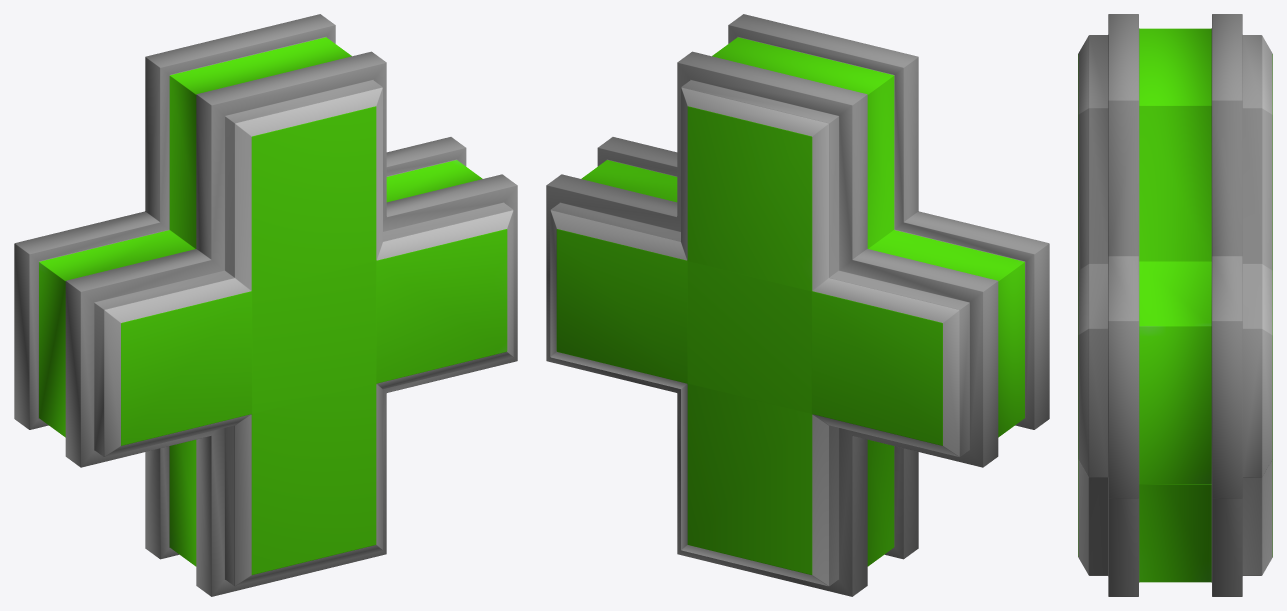
Rendered from SM_Cross_green.fbx.
3 views of the same model, side by side, from view 1: azimuth 30°, elevation 25°; view 2: azimuth 150°, elevation 25°; view 3: azimuth 270°, elevation 25° (orthographic).
Parts seen in each view (by area): view 1: SM_Cross_green; view 2: SM_Cross_green; view 3: SM_Cross_green.
Part boxes in pixels (left/top/right/bottom): SM_Cross_green: left=14, top=14, right=517, bottom=596; SM_Cross_green: left=546, top=14, right=1049, bottom=596; SM_Cross_green: left=1078, top=14, right=1272, bottom=596.
Size of the model in its own units: 123 by 47.02 by 132.
1 material, 1 textured.
